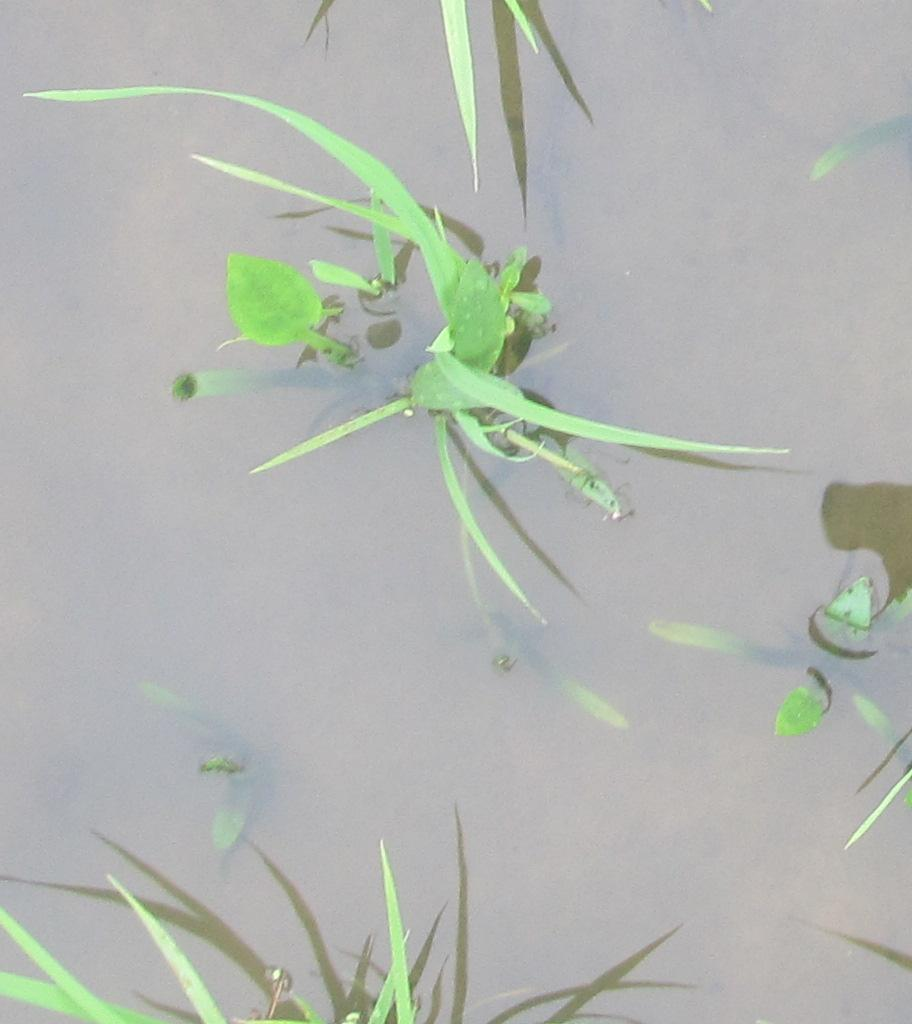Weed: (219, 252, 546, 439)
